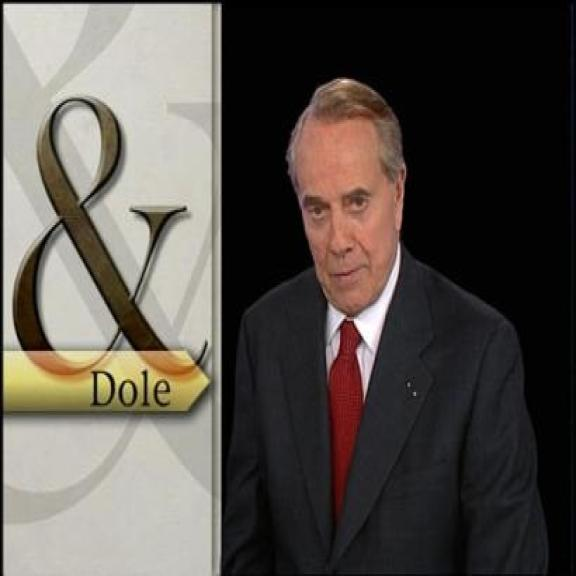face: (295, 126, 406, 312)
